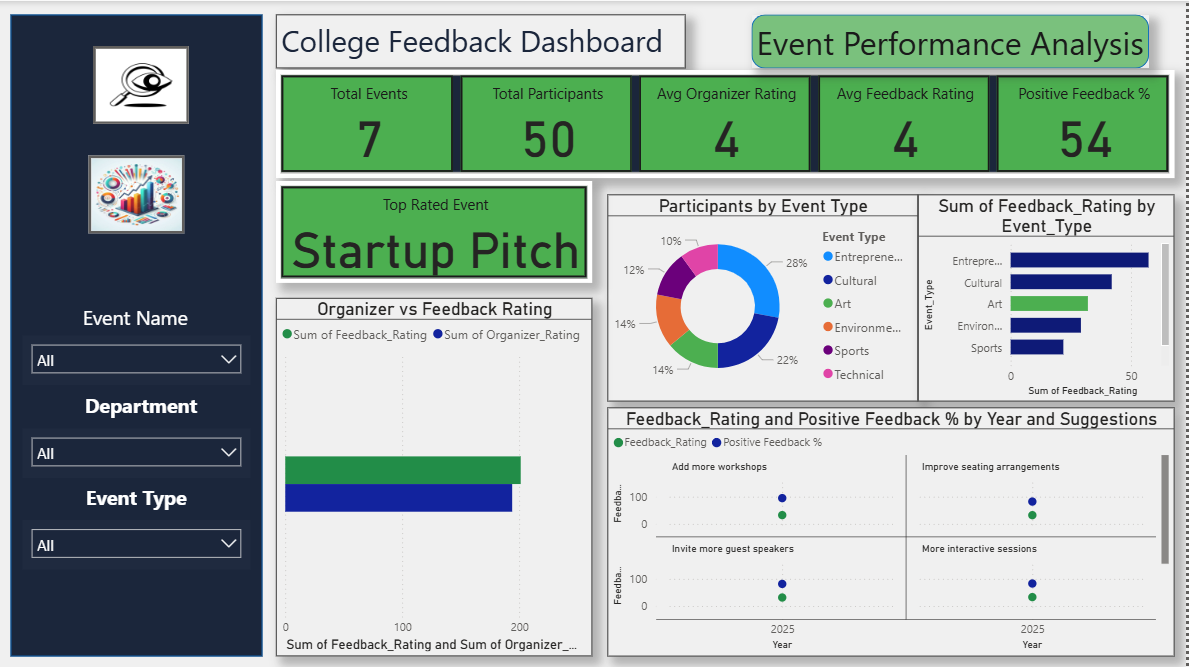

This screenshot's page, from the dashboard's own definition file:
{"tool":"powerbi","page":{"name":"Page 2","canvas":[1280,720],"ordinal":1},"visuals":[{"type":"shape","box":[11.3,14.6,272,693],"z":0},{"type":"textbox","box":[297.9,14.6,442,58.3],"z":1000},{"type":"actionButton","box":[100.4,48.6,103.6,84.2],"z":2000},{"type":"actionButton","box":[95.5,166.8,103.6,84.2],"z":3000},{"type":"slicer","fields":{"Values":["College_Event_Feedback.Department"]},"box":[24.3,461.5,246.1,53.4],"z":6000},{"type":"textbox","box":[77.7,416.1,149,45.3],"z":7000},{"type":"slicer","fields":{"Values":["College_Event_Feedback.Event_Name"]},"box":[24.3,361.1,246.1,53.4],"z":8000},{"type":"slicer","fields":{"Values":["College_Event_Feedback.Event_Type"]},"box":[24.3,560.3,246.1,53.4],"z":9000},{"type":"textbox","box":[87.4,514.9,129.5,45.3],"z":10000},{"type":"textbox","box":[84.2,320.6,132.8,40.5],"z":11000},{"type":"cardVisual","fields":{"Data":["College_Event_Feedback.Total Events","College_Event_Feedback.Total Participants","College_Event_Feedback.Avg Organizer Rating","College_Event_Feedback.Avg Feedback Rating","College_Event_Feedback.Positive Feedback %"]},"box":[297.9,74.5,969.9,116.6],"z":12000},{"type":"shape","box":[811.2,14.6,429.1,58.3],"z":13000},{"type":"donutChart","title":"Participants by Event Type","fields":{"Category":["College_Event_Feedback.Event_Type"],"Y":["College_Event_Feedback.Total Participants"]},"box":[655.8,208.9,335.2,223.5],"z":14000},{"type":"cardVisual","fields":{"Data":["College_Event_Feedback.Top Rated Event"]},"box":[297.9,194.3,341.7,110.1],"z":15000},{"type":"barChart","fields":{"Y":["Sum(College_Event_Feedback.Feedback_Rating)"],"Category":["College_Event_Feedback.Event_Type"]},"box":[991,208.9,276.9,223.5],"z":16000},{"type":"clusteredBarChart","title":"Organizer vs Feedback Rating","fields":{"Y":["Sum(College_Event_Feedback.Feedback_Rating)","Sum(College_Event_Feedback.Organizer_Rating)"]},"box":[297.9,320.6,341.7,387],"z":17000},{"type":"stackedAreaChart","fields":{"Category":["College_Event_Feedback.Date.Variation.Date Hierarchy.Year","College_Event_Feedback.Date.Variation.Date Hierarchy.Quarter","College_Event_Feedback.Date.Variation.Date Hierarchy.Month","College_Event_Feedback.Date.Variation.Date Hierarchy.Day"],"Y":["Sum(College_Event_Feedback.Feedback_Rating)","College_Event_Feedback.Positive Feedback %"],"Rows":["College_Event_Feedback.Suggestions"]},"box":[655.8,438.8,612.1,268.8],"z":18000}]}

Visuals, with their boxes in screenshot pixels (x1, y1, x2, y2), scaled from the page's 1280x720 canvas onto the 1189x667 screenshot:
shape: pyautogui.locateOnScreen(10, 14, 263, 656)
textbox: pyautogui.locateOnScreen(277, 14, 687, 68)
actionButton: pyautogui.locateOnScreen(93, 45, 189, 123)
actionButton: pyautogui.locateOnScreen(89, 155, 185, 233)
slicer - College_Event_Feedback.Department: pyautogui.locateOnScreen(23, 428, 251, 477)
textbox: pyautogui.locateOnScreen(72, 385, 211, 427)
slicer - College_Event_Feedback.Event_Name: pyautogui.locateOnScreen(23, 335, 251, 384)
slicer - College_Event_Feedback.Event_Type: pyautogui.locateOnScreen(23, 519, 251, 569)
textbox: pyautogui.locateOnScreen(81, 477, 201, 519)
textbox: pyautogui.locateOnScreen(78, 297, 202, 335)
cardVisual - College_Event_Feedback.Total Events x College_Event_Feedback.Total Participants: pyautogui.locateOnScreen(277, 69, 1178, 177)
shape: pyautogui.locateOnScreen(754, 14, 1152, 68)
"Participants by Event Type" donutChart: pyautogui.locateOnScreen(609, 194, 921, 401)
cardVisual - College_Event_Feedback.Top Rated Event: pyautogui.locateOnScreen(277, 180, 594, 282)
barChart - Sum(College_Event_Feedback.Feedback_Rating) x College_Event_Feedback.Event_Type: pyautogui.locateOnScreen(921, 194, 1178, 401)
"Organizer vs Feedback Rating" clusteredBarChart: pyautogui.locateOnScreen(277, 297, 594, 656)
stackedAreaChart - College_Event_Feedback.Date.Variation.Date Hierarchy.Year x College_Event_Feedback.Date.Variation.Date Hierarchy.Quarter: pyautogui.locateOnScreen(609, 406, 1178, 656)
